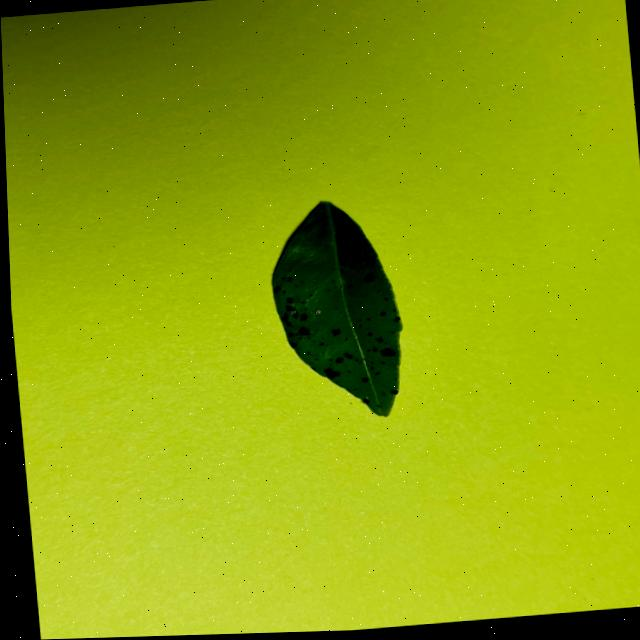sooty_mold: (272, 201, 401, 415)
